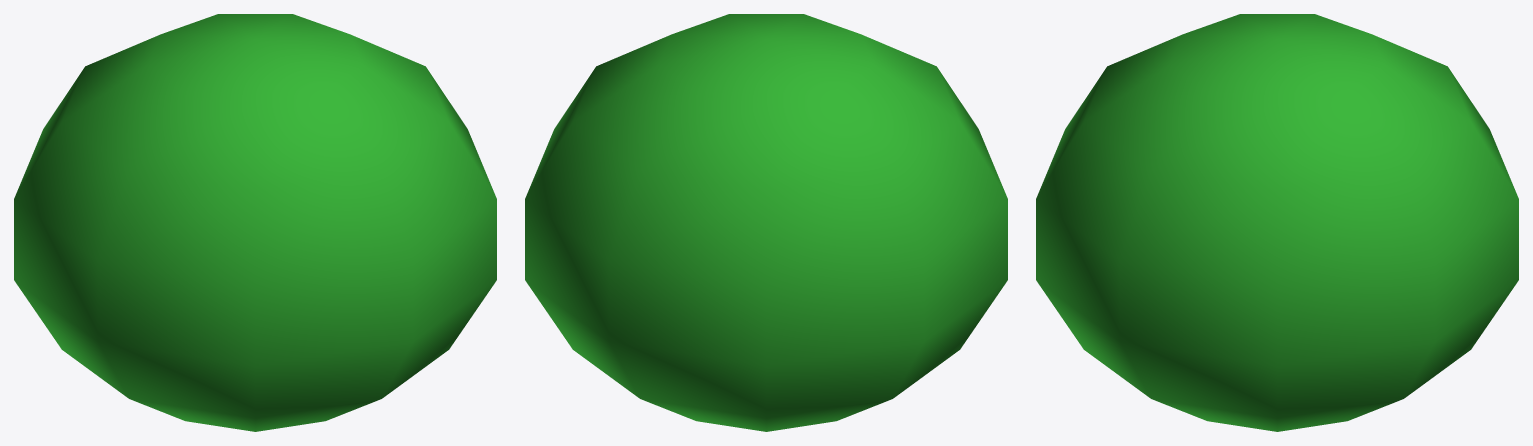
File: seedling_stage1.obj
3 views of the same model, side by side, from view 1: azimuth 30°, elevation 25°; view 2: azimuth 150°, elevation 25°; view 3: azimuth 270°, elevation 25° (orthographic).
Bounding box in the file's own units: 1.23 × 1.04 × 1.25.
